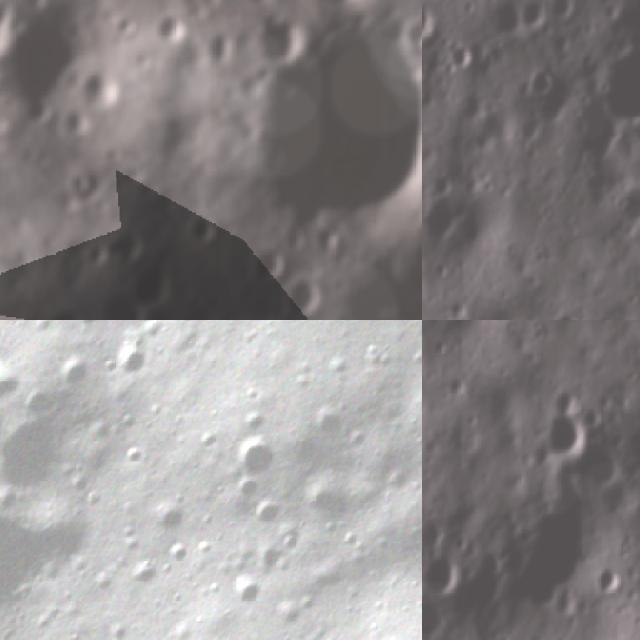crater: (237, 20, 422, 220), (0, 462, 101, 640), (500, 481, 598, 615), (0, 0, 104, 114), (0, 412, 66, 509), (532, 391, 598, 456), (222, 433, 282, 493), (609, 373, 640, 485), (244, 9, 304, 66), (596, 48, 640, 125), (120, 253, 178, 310), (527, 61, 573, 118), (15, 379, 66, 430), (299, 399, 346, 447), (279, 262, 320, 314), (424, 543, 467, 592), (118, 553, 164, 596), (244, 242, 288, 286), (144, 494, 188, 538), (242, 491, 285, 535), (221, 572, 264, 612), (148, 8, 187, 52), (50, 353, 90, 395), (114, 343, 153, 386), (231, 403, 270, 442), (86, 69, 124, 107), (0, 359, 26, 414), (115, 438, 152, 476), (96, 293, 147, 320), (514, 0, 551, 36), (228, 472, 262, 508), (201, 27, 234, 64), (304, 220, 344, 250), (156, 536, 192, 569), (249, 543, 284, 575), (272, 526, 303, 560), (188, 424, 220, 456), (381, 469, 412, 502), (543, 0, 584, 23), (398, 7, 422, 46), (44, 296, 83, 320), (422, 0, 441, 49), (0, 402, 10, 486), (350, 308, 407, 320)
